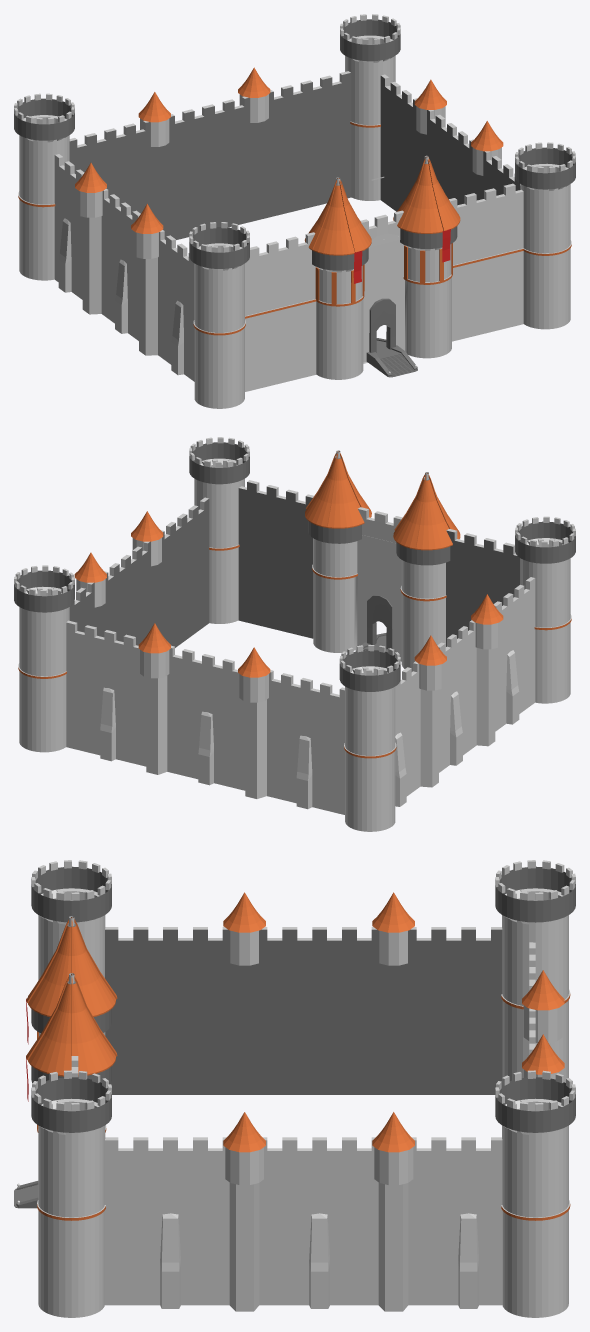
File: castel2.fbx
3 views of the same model, one above another, from view 1: azimuth 30°, elevation 25°; view 2: azimuth 150°, elevation 25°; view 3: azimuth 270°, elevation 25° (orthographic). The views are drawn at different scales.
Visible parts, largest first — view 1: Castle, Castle.003; view 2: Castle, Castle.003; view 3: Castle, Castle.003.
Boxes of the visible parts, bbox=[...] form: Castle: bbox=[14, 14, 575, 408]; Castle.003: bbox=[366, 298, 417, 377]; Castle: bbox=[14, 437, 575, 831]; Castle.003: bbox=[356, 595, 395, 654]; Castle: bbox=[26, 860, 575, 1317]; Castle.003: bbox=[14, 1181, 38, 1208].
Size of the model in its own units: 23437 by 11378 by 22760.
